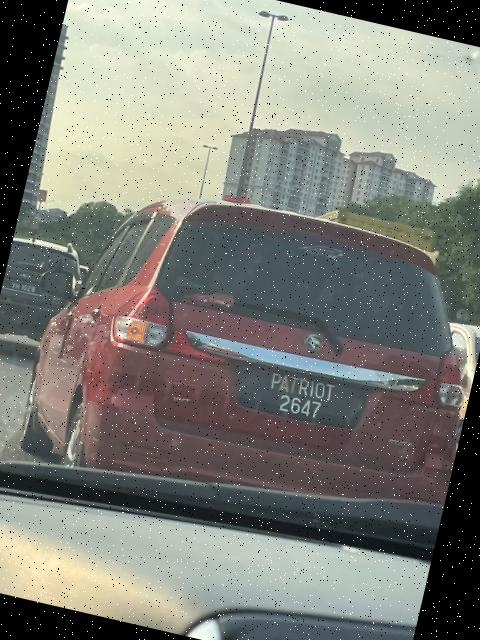License_Plate: (229, 361, 370, 441)
car: (9, 156, 480, 542)
